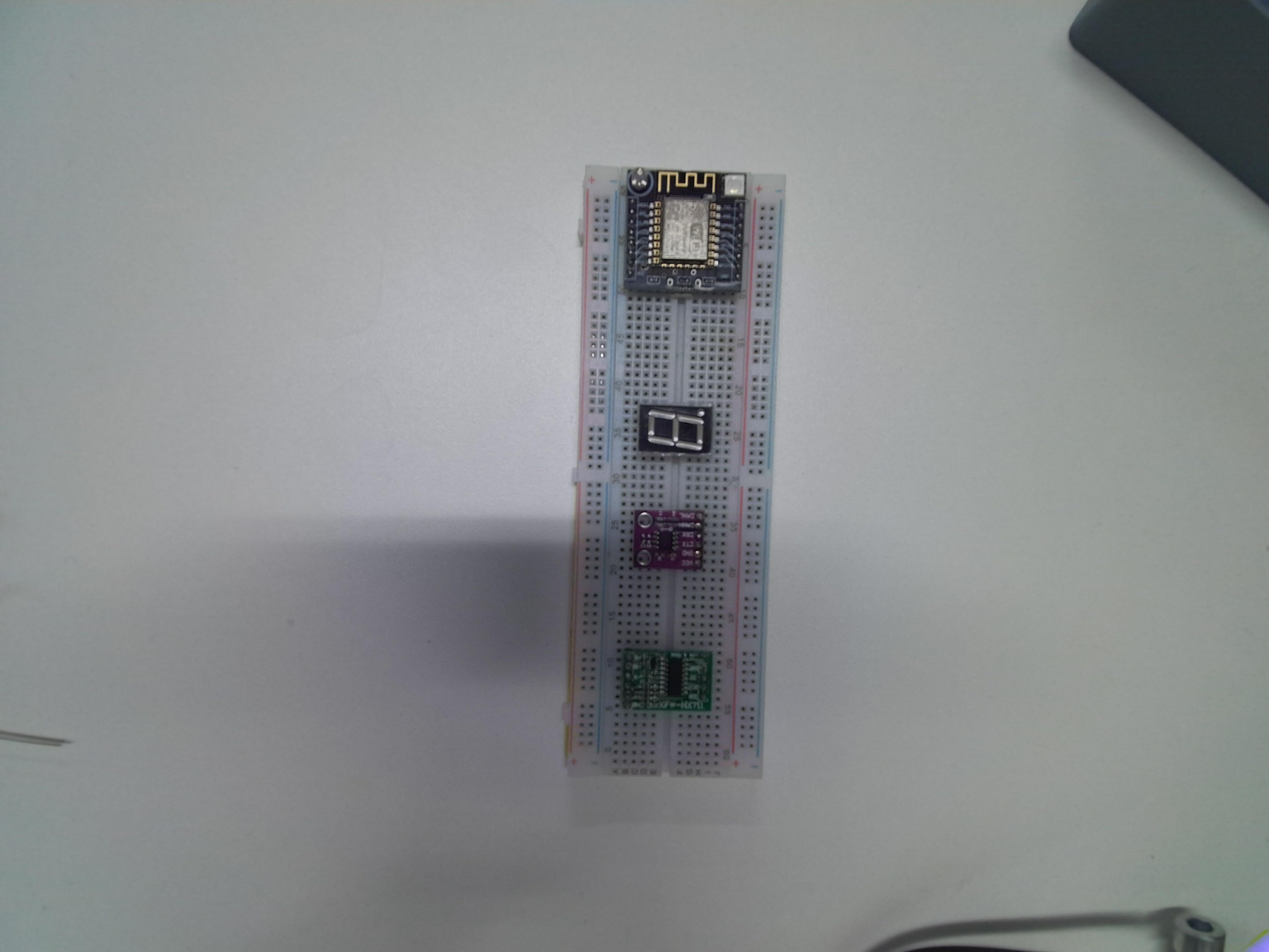base: (569, 160, 787, 783)
blue-board: (617, 644, 714, 712)
digit-board: (637, 401, 714, 456)
esp: (623, 167, 752, 302)
purple-board: (629, 508, 705, 572)
